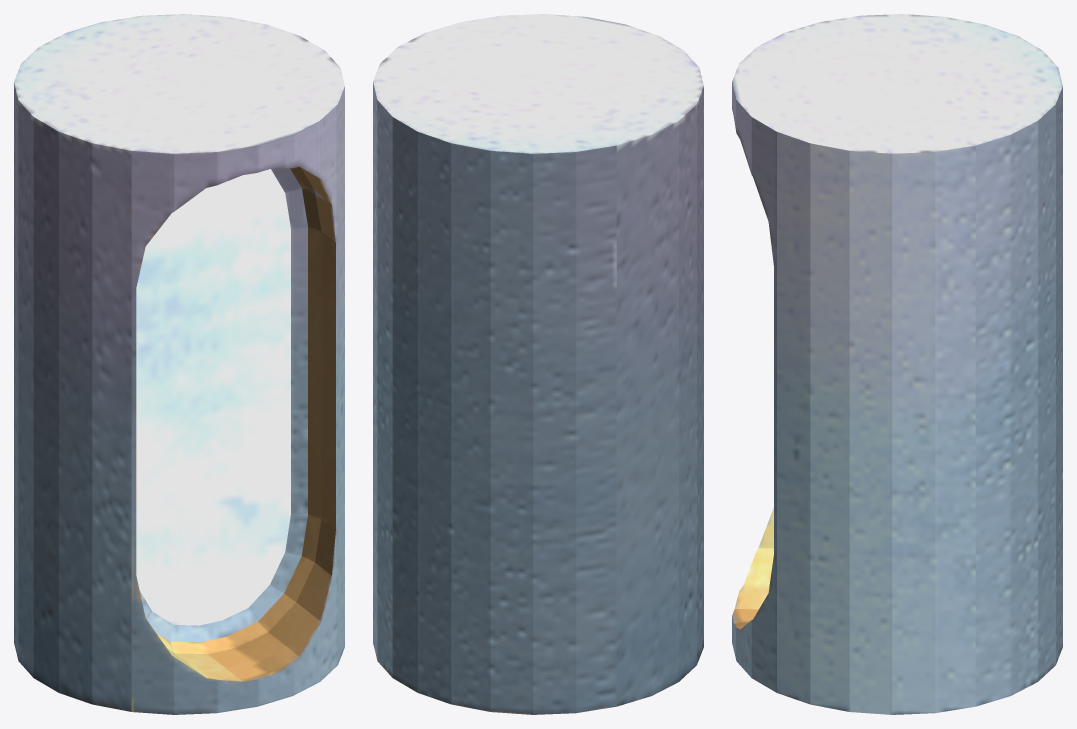
The model's file is SideTable.glb.
The picture shows the model from 3 angles, left to right: view 1: azimuth 30°, elevation 25°; view 2: azimuth 150°, elevation 25°; view 3: azimuth 270°, elevation 25°; orthographic projection.
Visible parts, largest first — view 1: Cylinder.001; view 2: Cylinder.001; view 3: Cylinder.001.
Part boxes in pixels (x1,y1,x2,y2): Cylinder.001: (14, 14, 344, 714); Cylinder.001: (373, 14, 703, 714); Cylinder.001: (732, 14, 1062, 714).
Size of what is drawn, in the model's own units: 0.3548 by 0.6641 by 0.3548.
2 materials, 2 textured.
